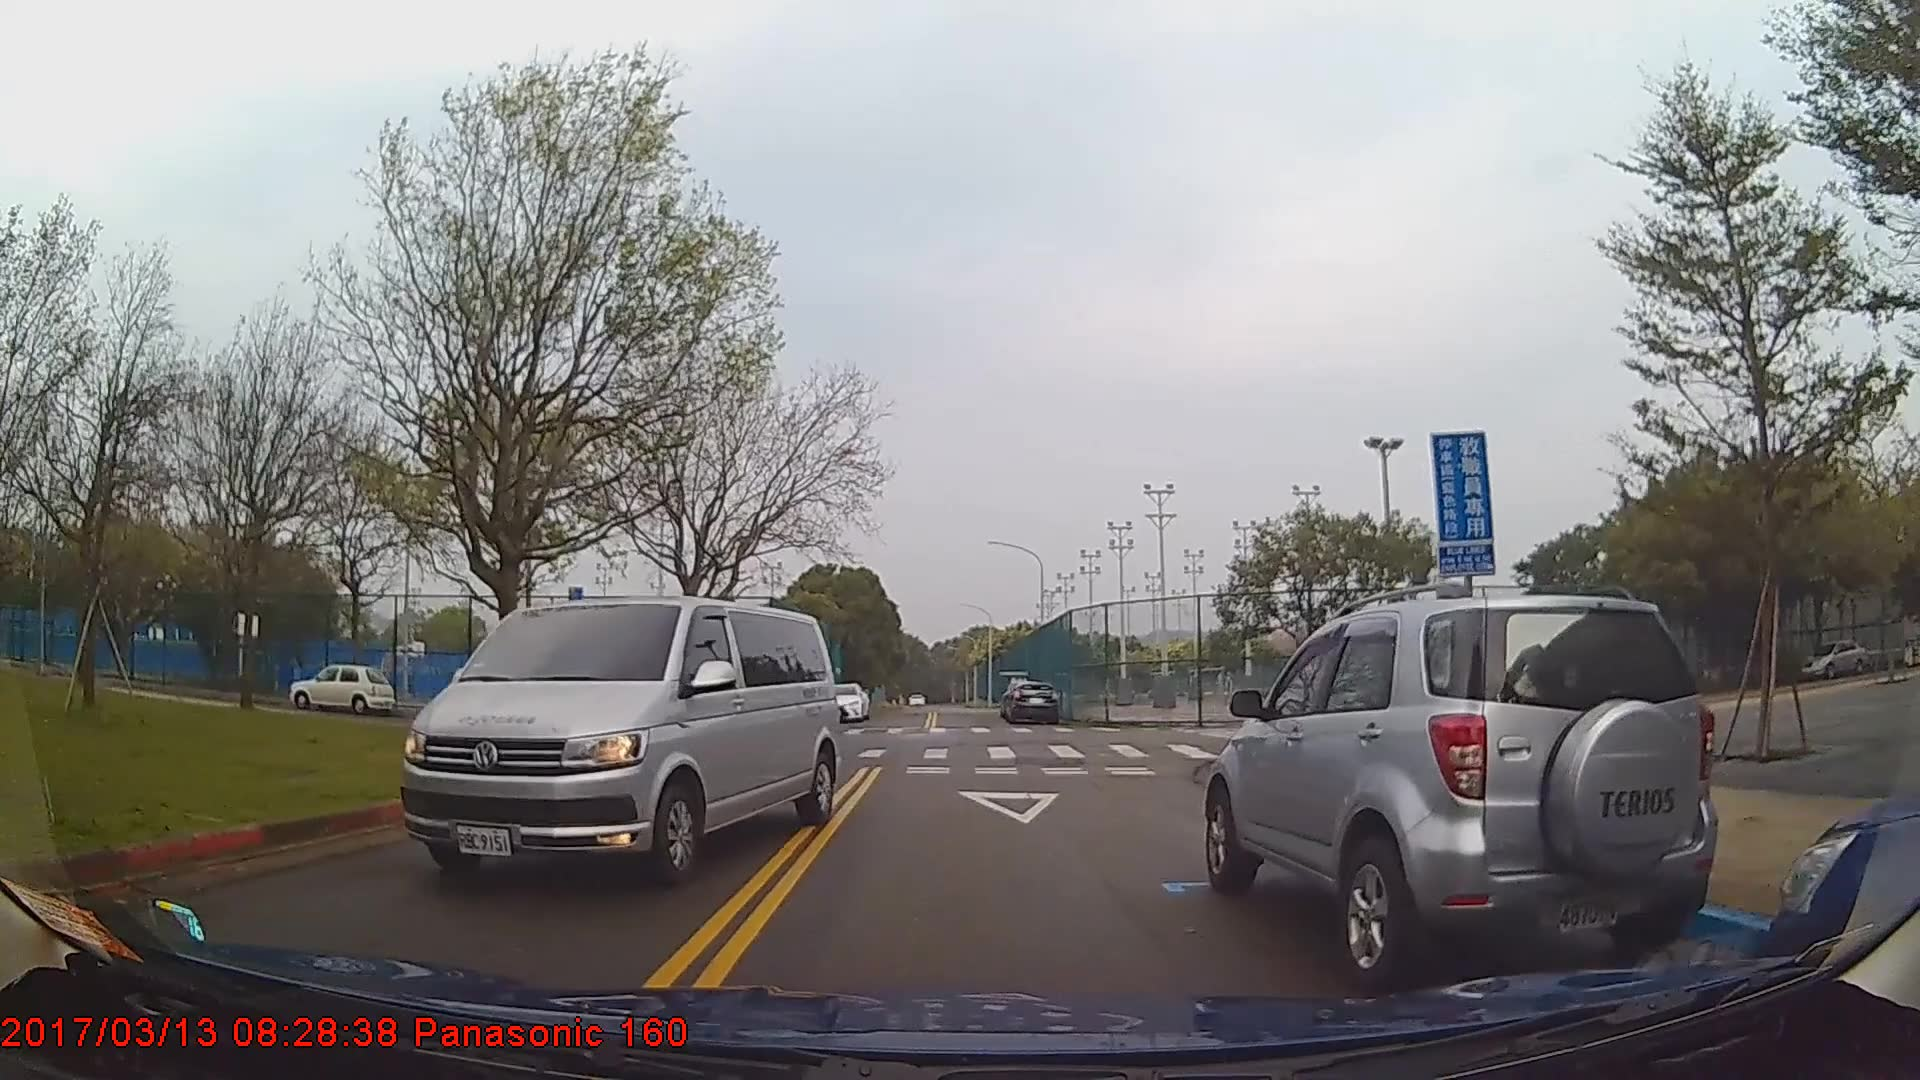vehicle: (1201, 591, 1717, 985), (396, 597, 840, 889), (287, 663, 392, 713), (1799, 638, 1869, 680), (1004, 679, 1062, 724), (818, 682, 866, 723)
